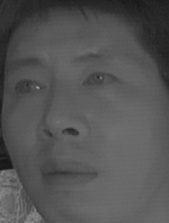eye: (79, 67, 122, 91), (9, 76, 49, 99)
mouth: (39, 151, 99, 189)
